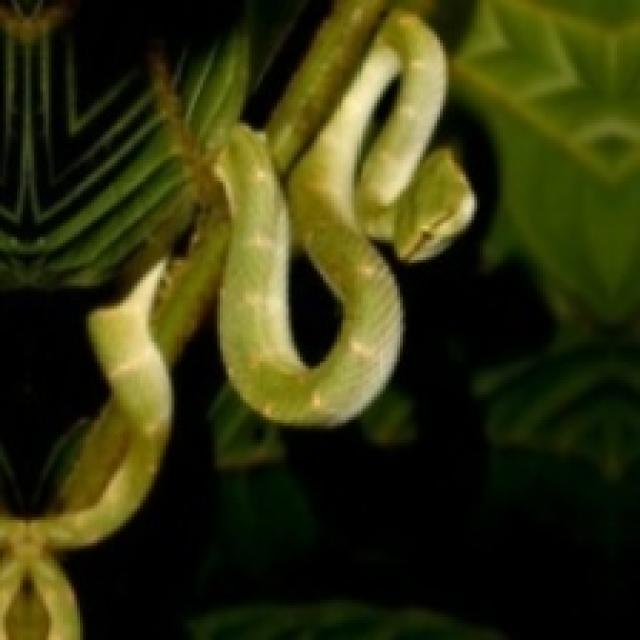north ph temple pitviper: (0, 0, 471, 637), (286, 249, 340, 363)
